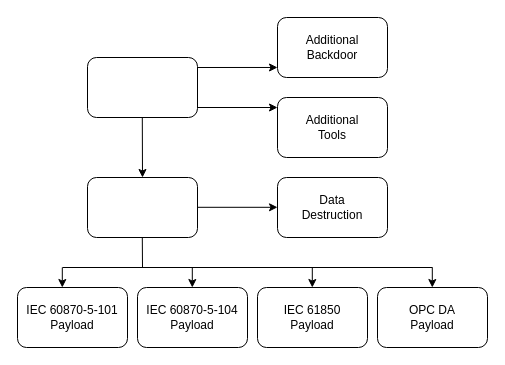
Some shapes in this 505 by 365 pixel diagram are drawn without their labels. Each missing label, with the centre of its shape:
"Launcher Component" belongs at point 142,207.
"Main Backdoor" belongs at point 142,87.
